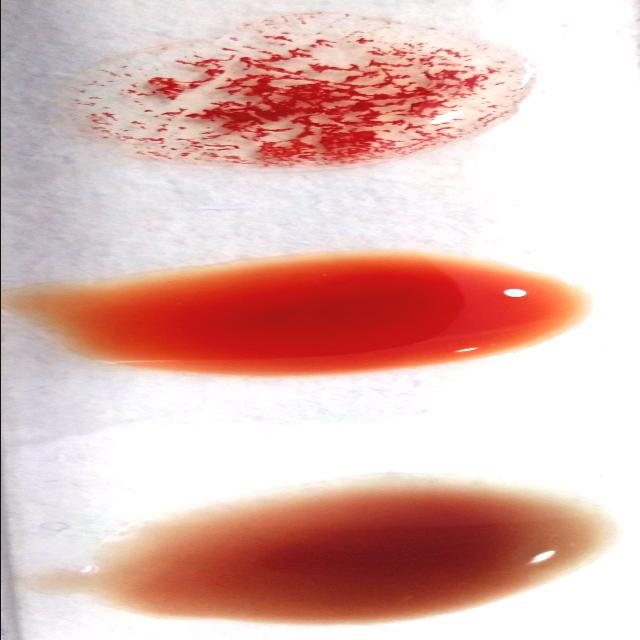D: (72, 17, 526, 163)
